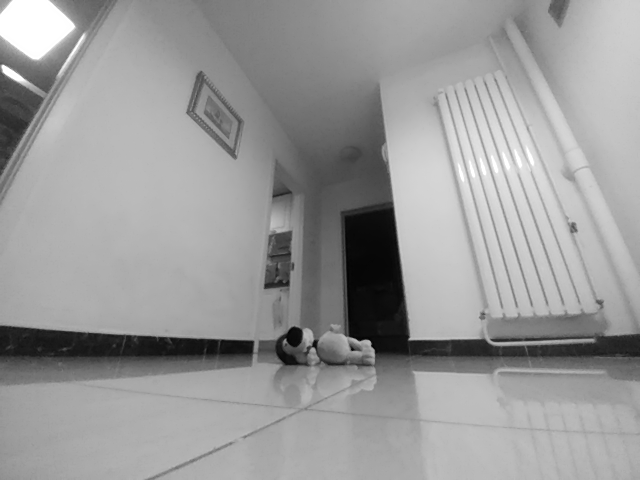toy: (275, 322, 376, 367)
